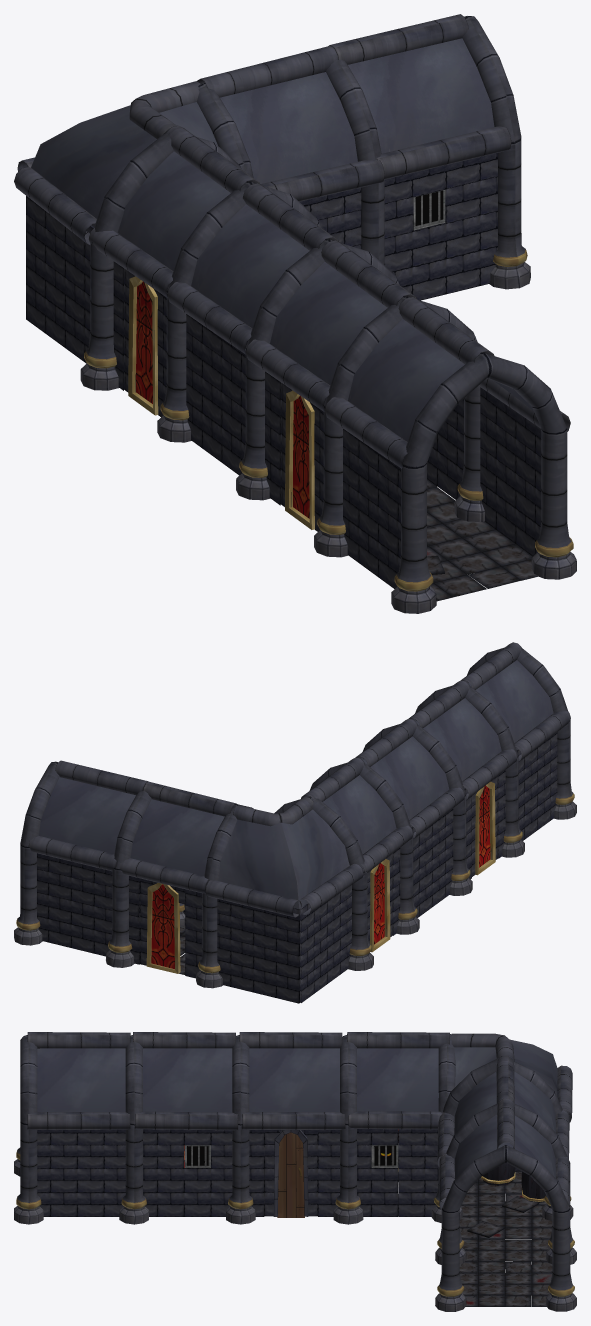
File: SM_EthanVampireCorridor.fbx
The picture shows the model from 3 angles, top to bottom: view 1: azimuth 30°, elevation 25°; view 2: azimuth 150°, elevation 25°; view 3: azimuth 270°, elevation 25°; orthographic projection. The views are drawn at different scales.
Visible parts, largest first — view 1: pCylinder19, pCylinder24, pCylinder21, pCylinder22, polySurface21, polySurface76, polySurface5, polySurface74, polySurface23, pCylinder27, polySurface36, polySurface37 (+28 smaller); view 2: pCylinder24, polySurface5, pCylinder21, pCylinder19, pCylinder22, polySurface21, polySurface74, polySurface23, pCylinder27, polySurface76, pCylinder34, pPlane152 (+28 smaller); view 3: pCylinder19, pCylinder21, pCylinder22, polySurface23, polySurface74, pCylinder24, polySurface76, polySurface21, polySurface5, pCylinder34, pPlane150, polySurface31 (+46 smaller).
Part boxes in pixels (<box>): pCylinder19: <box>348,296,576,613</box>; pCylinder24: <box>197,45,384,264</box>; pCylinder21: <box>191,183,399,500</box>; pCylinder22: <box>118,125,320,442</box>; polySurface21: <box>348,38,494,153</box>; polySurface76: <box>314,296,484,557</box>; polySurface5: <box>31,102,217,226</box>; polySurface74: <box>270,262,387,385</box>; polySurface23: <box>462,16,530,289</box>; pCylinder27: <box>80,131,241,390</box>; polySurface36: <box>376,126,511,179</box>; polySurface37: <box>328,14,468,64</box>; pCylinder24: <box>106,781,237,967</box>; polySurface5: <box>219,809,349,909</box>; pCylinder21: <box>356,718,472,895</box>; pCylinder19: <box>461,642,576,819</box>; pCylinder22: <box>301,757,419,934</box>; polySurface21: <box>39,777,135,853</box>; polySurface74: <box>415,698,501,788</box>; polySurface23: <box>14,761,59,945</box>; pCylinder27: <box>274,796,373,970</box>; polySurface76: <box>415,685,524,857</box>; pCylinder34: <box>196,804,253,988</box>; pPlane152: <box>151,884,174,969</box>; pCylinder19: <box>14,1032,130,1224</box>; pCylinder21: <box>226,1032,342,1224</box>; pCylinder22: <box>333,1032,449,1224</box>; polySurface23: <box>435,1145,576,1311</box>; polySurface74: <box>143,1048,232,1112</box>; pCylinder24: <box>435,1056,576,1264</box>; polySurface76: <box>119,1035,148,1224</box>; polySurface21: <box>454,1114,555,1179</box>; polySurface5: <box>454,1039,557,1096</box>; pCylinder34: <box>431,1056,573,1222</box>; pPlane150: <box>277,1132,304,1217</box>; polySurface31: <box>135,1111,238,1130</box>.
Bounding box in the file's own units: 132 × 67.13 × 211.
